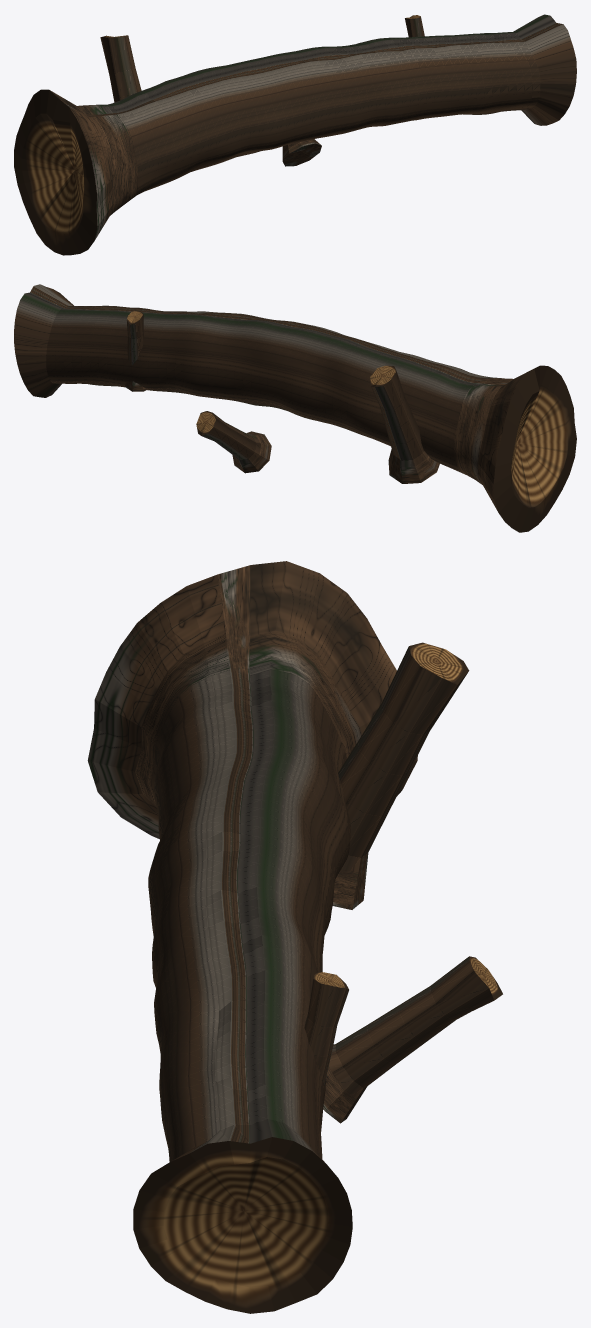
Rendered from Totholz_2.fbx.
3 renders of one model, top to bottom at view 1: azimuth 30°, elevation 25°; view 2: azimuth 150°, elevation 25°; view 3: azimuth 270°, elevation 25°, orthographic. The views are drawn at different scales.
Visible parts, largest first — view 1: Totholz_2; view 2: Totholz_2; view 3: Totholz_2.
Part boxes in pixels (left/top/right/bottom): Totholz_2: left=14, top=14, right=576, bottom=255; Totholz_2: left=14, top=284, right=576, bottom=532; Totholz_2: left=87, top=561, right=502, bottom=1313.
Bounding box in the file's own units: 2.29 × 0.6951 × 0.8132.
